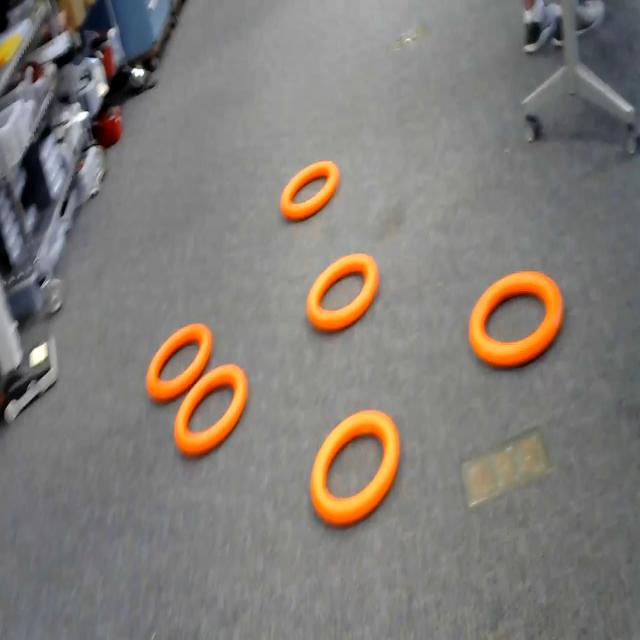note: (299, 402, 407, 536), (463, 262, 573, 377), (302, 245, 383, 344), (175, 359, 248, 467), (142, 315, 216, 398), (277, 163, 343, 229)
